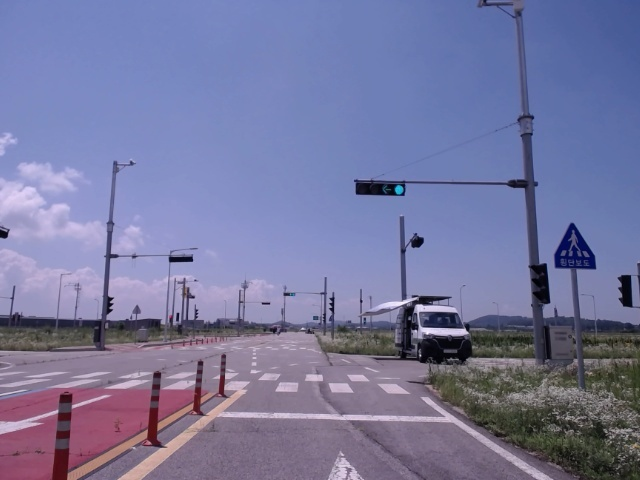all_green_4: (354, 182, 406, 198)
